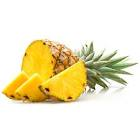Pineapple: (21, 38, 137, 94)
